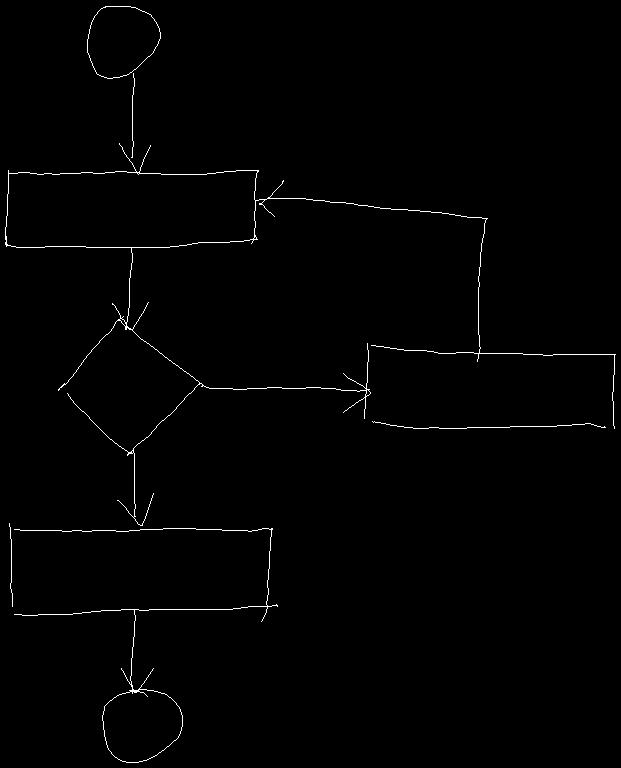arrow: (255, 180, 487, 361), (202, 373, 370, 412), (119, 73, 150, 174), (112, 247, 148, 329), (117, 450, 153, 525), (121, 609, 153, 693)
connection: (102, 689, 182, 762), (87, 6, 160, 78)
decision: (58, 316, 203, 455)
process: (9, 523, 277, 621), (364, 343, 615, 428), (5, 170, 258, 247)
